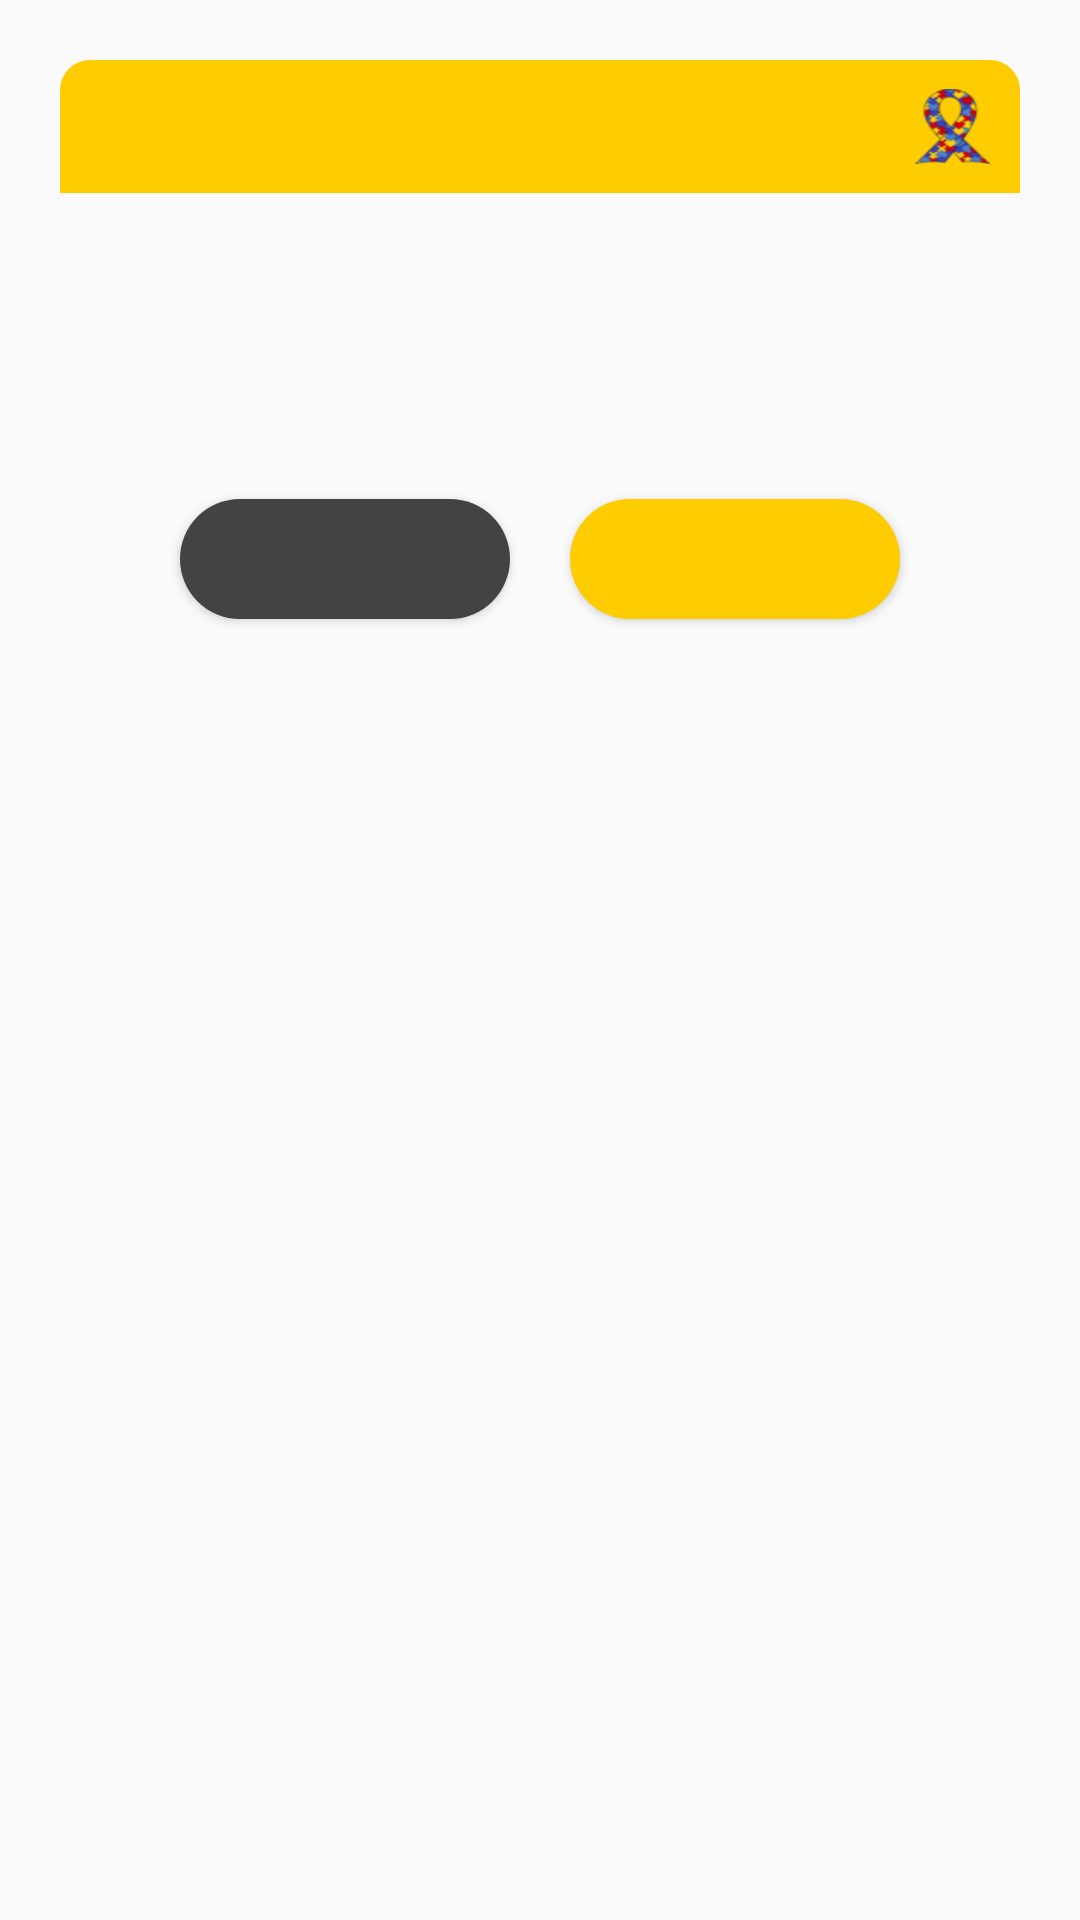

Locate icon controls on the screen. Image size 1080 x 1920, boxes as (x1, y1, x2, y2).
autisto: (915, 89, 990, 164)
